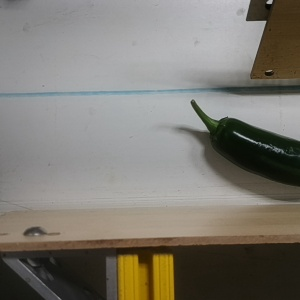Cut Point: (201, 111, 239, 153)
